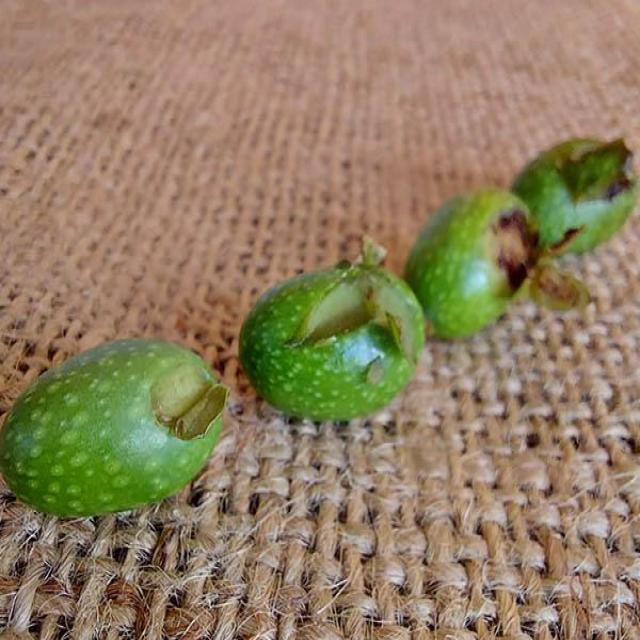Olive Fruit Fly: (0, 339, 228, 516), (239, 262, 425, 419), (404, 189, 588, 338), (511, 137, 639, 255)
